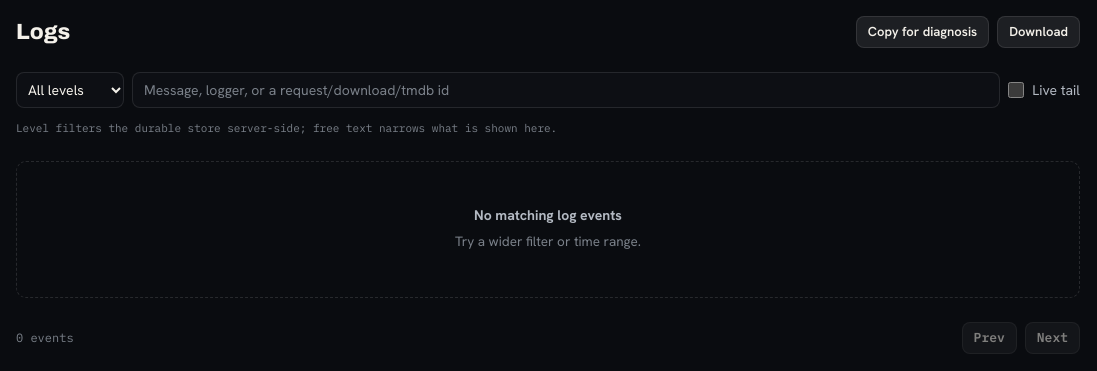
Test: Logs › uses distinct canonical empty guidance for durable history and the live tail
The width and height of the screenshot is (1097, 371).
Check: the text "No matching log events" is shown, box [474,206,622,224]
Click the checkbox labelled "Live tail" at (1016,90), box [1008,82,1024,98]
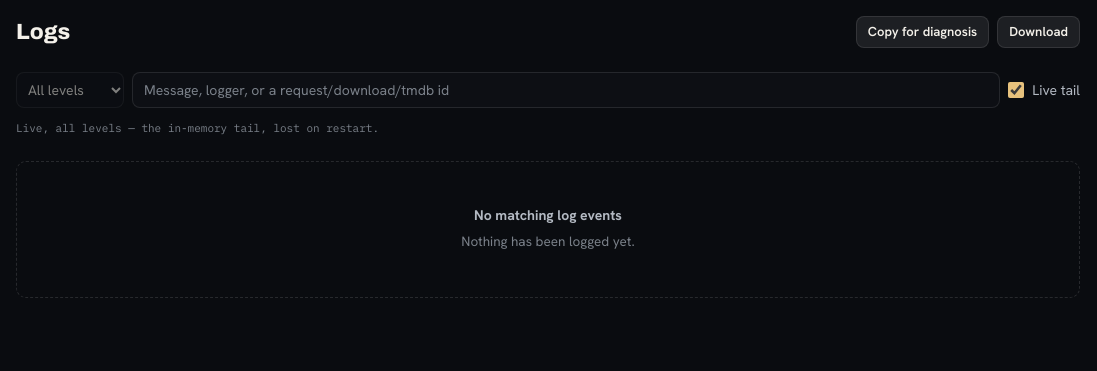
Check: the text "No matching log events" is shown, box [474,206,622,224]
Check: the text "Try a wider filter or time range." is gone
